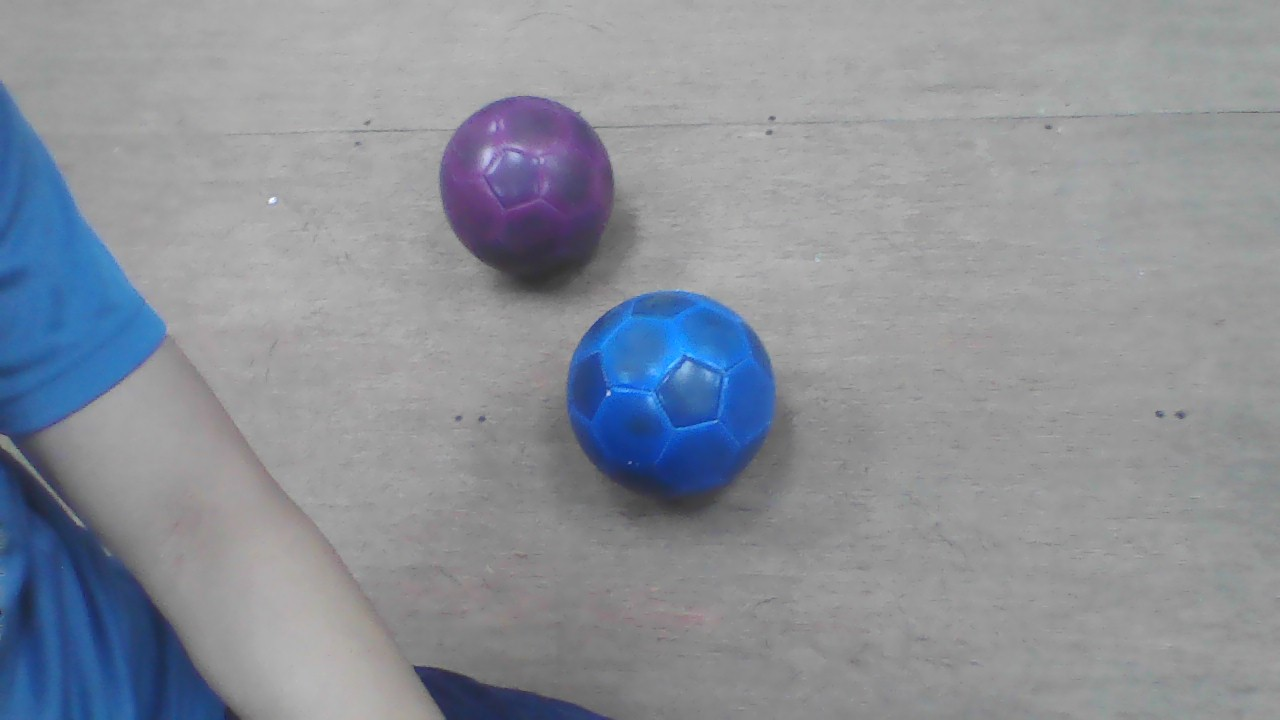Blue: (566, 293, 774, 498)
Purple: (440, 96, 614, 280)
